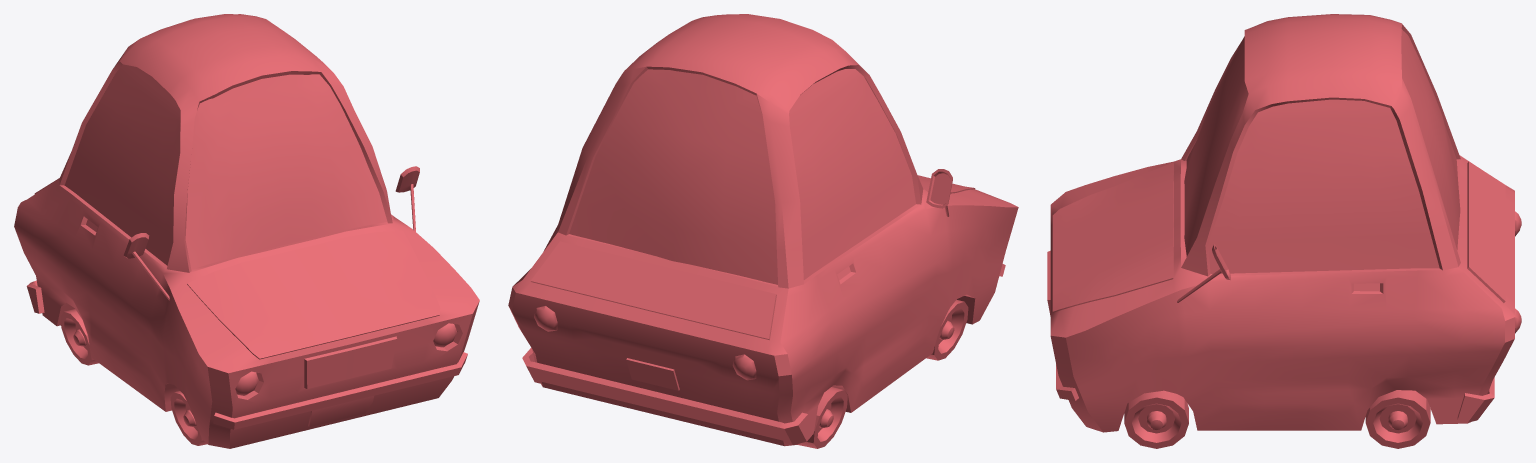
Rendered from BallCar.fbx.
3 views of the same model, side by side, from view 1: azimuth 30°, elevation 25°; view 2: azimuth 150°, elevation 25°; view 3: azimuth 270°, elevation 25° (orthographic). The views are drawn at different scales.
Visible parts, largest first — view 1: SM_Car, SM_BackWheels, SM_FrontWheels; view 2: SM_Car, SM_BackWheels, SM_FrontWheels; view 3: SM_Car, SM_BackWheels, SM_FrontWheels.
Boxes of the visible parts, left/top/right/bottom form: SM_Car: left=14, top=14, right=479, bottom=448; SM_BackWheels: left=60, top=309, right=98, bottom=365; SM_FrontWheels: left=170, top=391, right=207, bottom=445; SM_Car: left=508, top=14, right=1018, bottom=446; SM_BackWheels: left=798, top=387, right=847, bottom=448; SM_FrontWheels: left=926, top=299, right=968, bottom=360; SM_Car: left=1047, top=14, right=1521, bottom=432; SM_BackWheels: left=1365, top=390, right=1430, bottom=448; SM_FrontWheels: left=1124, top=390, right=1188, bottom=448.
Size of the model in its own units: 286 by 306 by 367.
